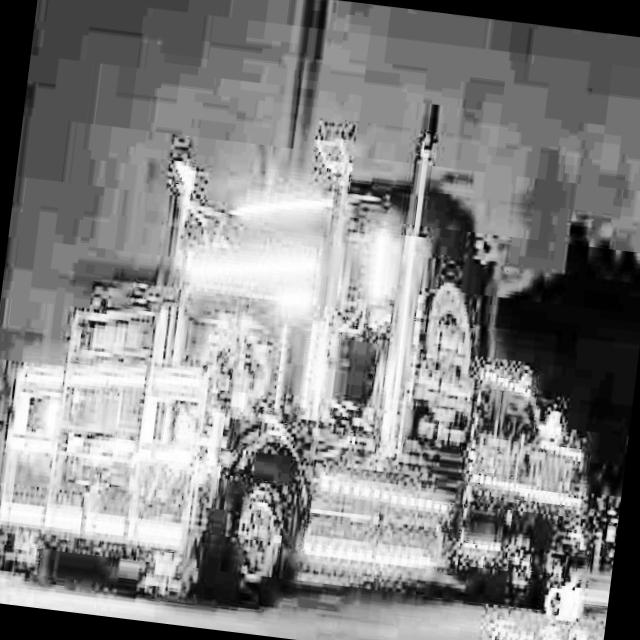Truck: (0, 59, 638, 640)
